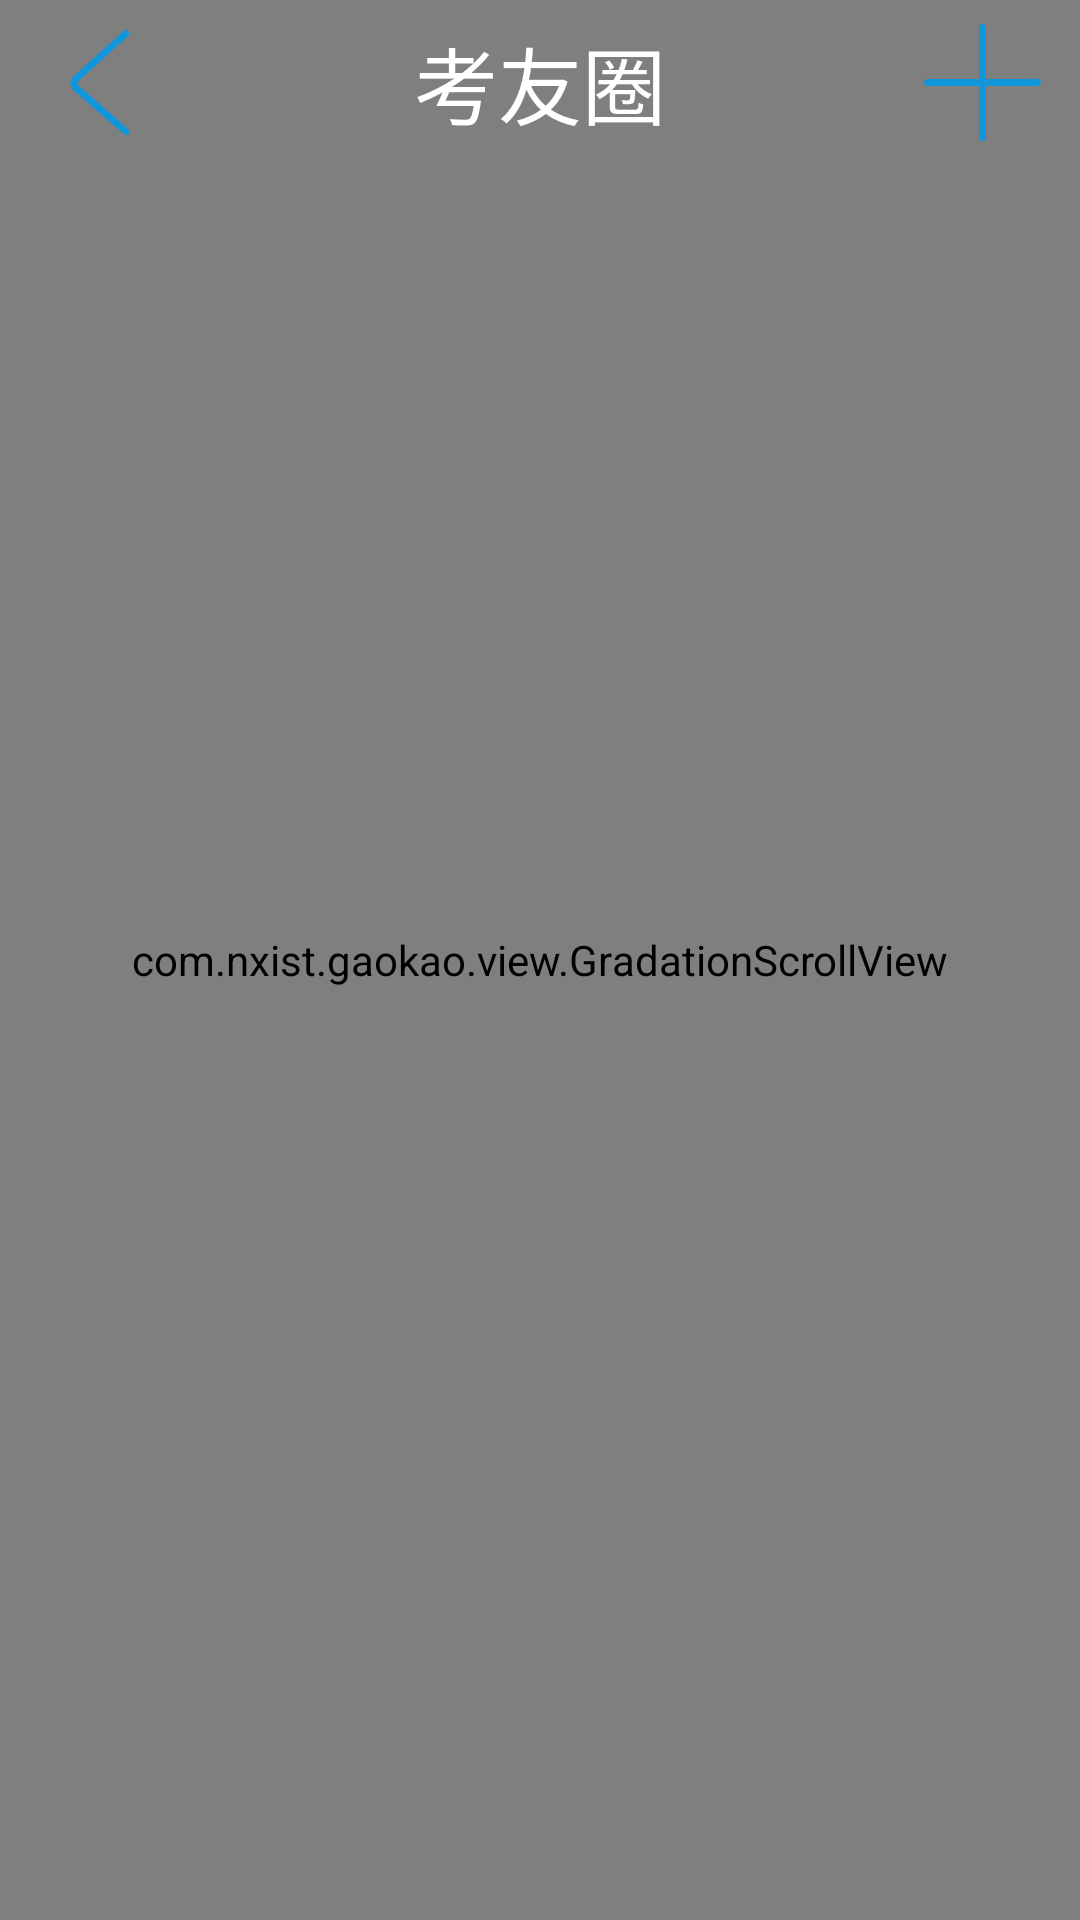

Icons on this 1080*1920 Android screen, each with the point to tap as (x=x, y=y):
add: (x=982, y=82)
back: (x=100, y=82)
